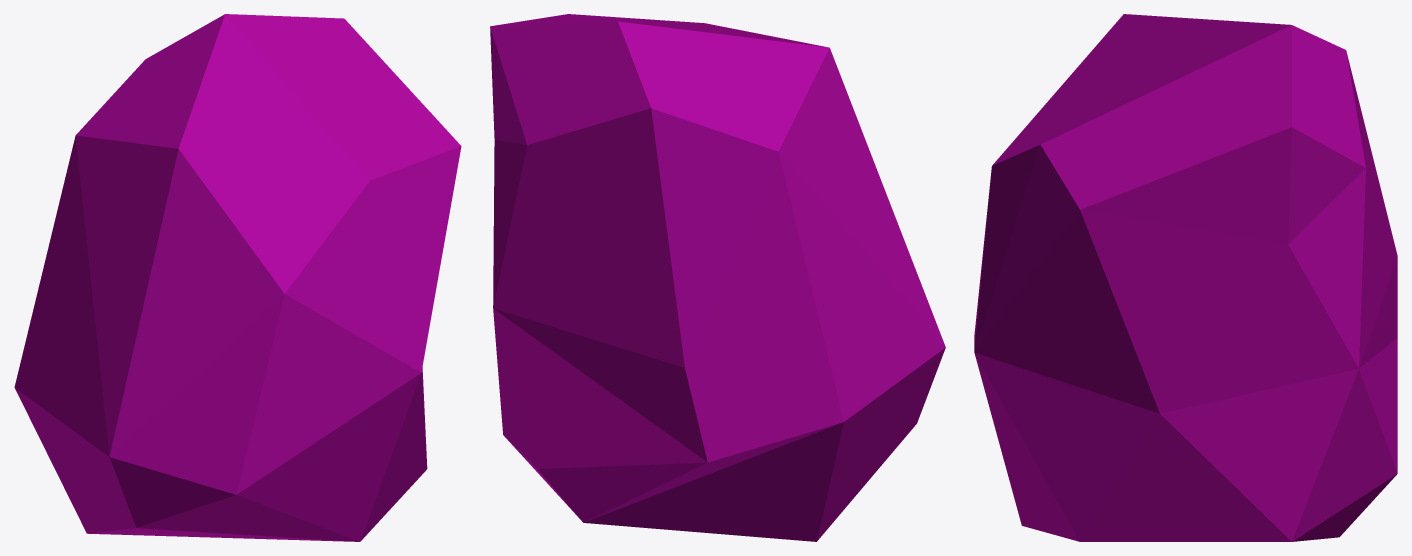
The model's file is Collider_Med_Rock_002.fbx.
The picture shows the model from 3 angles, left to right: view 1: azimuth 30°, elevation 25°; view 2: azimuth 150°, elevation 25°; view 3: azimuth 270°, elevation 25°; orthographic projection. The views are drawn at different scales.
Parts seen in each view (by area): view 1: Collider_Med_Rock_002; view 2: Collider_Med_Rock_002; view 3: Collider_Med_Rock_002.
Part boxes in pixels (box(x1,y1,x2,y2)): Collider_Med_Rock_002: box(14, 14, 461, 541); Collider_Med_Rock_002: box(490, 14, 945, 541); Collider_Med_Rock_002: box(974, 14, 1397, 541).
Bounding box in the file's own units: 2.03 × 2.55 × 1.9.
